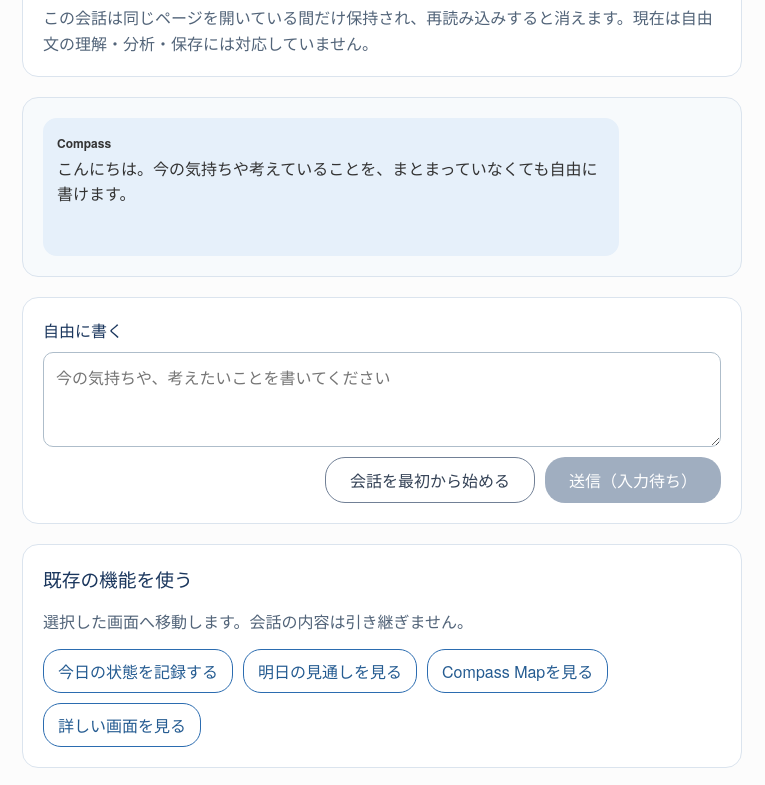
it: App conversation calendar capture › propagates an extracted Candidate to ConversationTab without saving it
(page scrolled)
Type "明日の14時から15時まで歯医者の予定を入れたい" into the text box labelled "自由に書く". click: (382, 400)
box: [43,352,721,447]
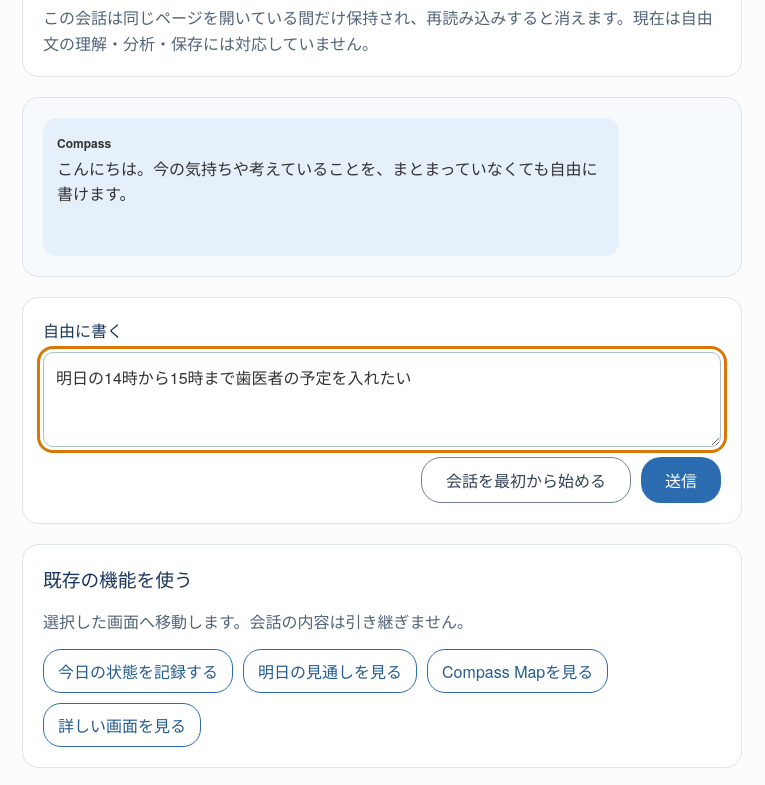
Click the button "送信". click: (681, 480)
box: [641,457,721,503]
(page scrolled)
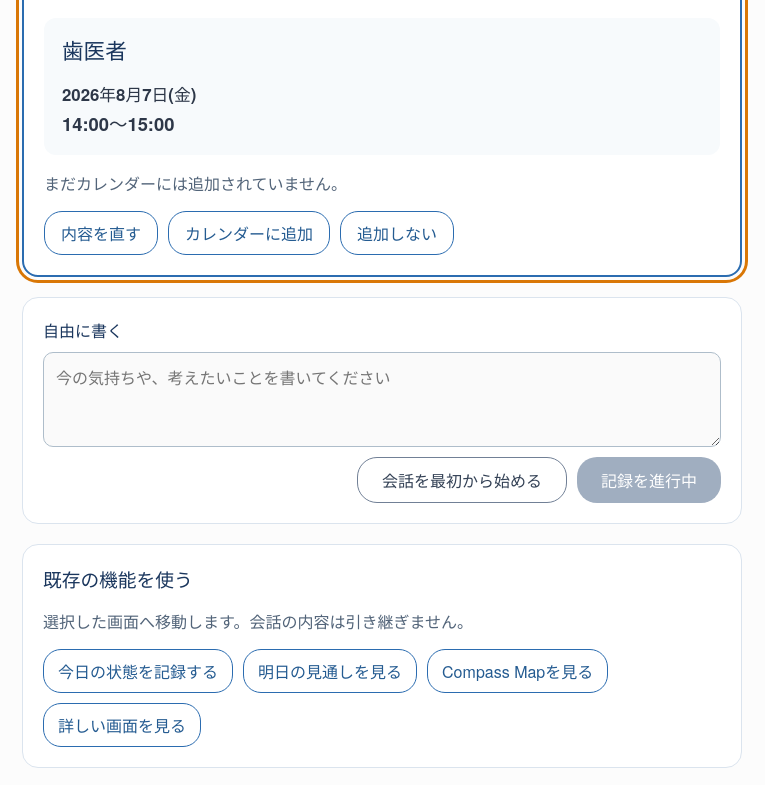
Check: the text "歯医者" is shown, box [62,35,127,66]
Check: the text "14:00〜15:00" is shown, box [62,110,174,137]
Check: the text box labelled "自由に書く" is disabled, box [43,352,721,447]
